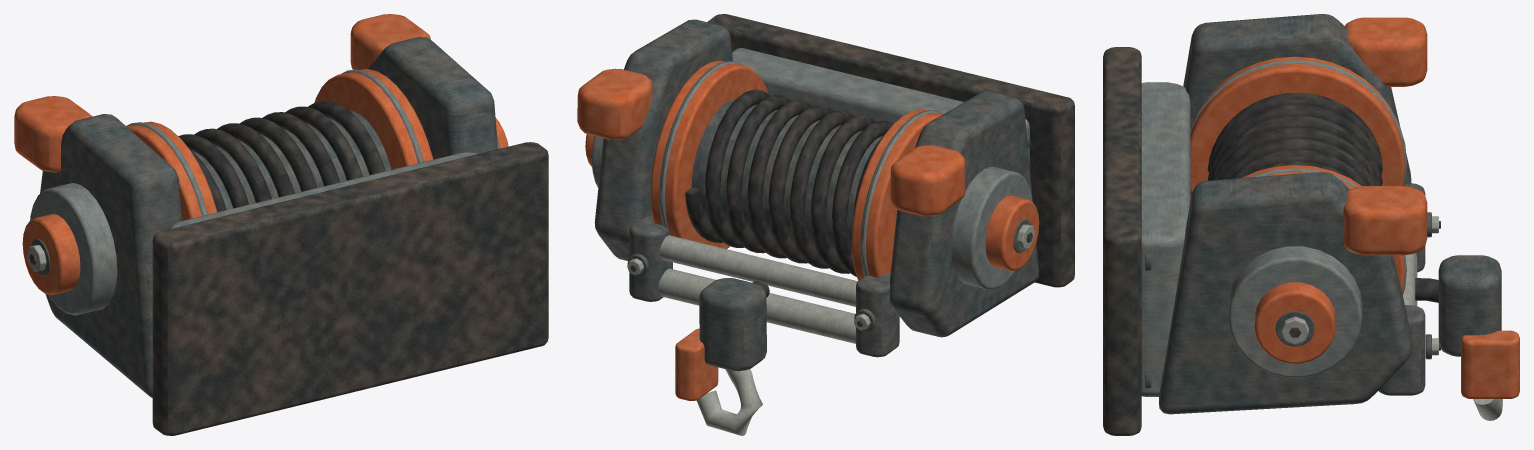
The model's file is gar_y_tow_hitch.glb.
The picture shows the model from 3 angles, left to right: view 1: azimuth 30°, elevation 25°; view 2: azimuth 150°, elevation 25°; view 3: azimuth 270°, elevation 25°; orthographic projection. The views are drawn at different scales.
Visible parts, largest first — view 1: MountPlate_graphite, GAR_Y_TowHitch_dark_alloy, Reel_black_rubber, GAR_Y_TowHitch_orange, Reel_orange, GAR_Y_TowHitch_alloy, Reel_dark_alloy, MountPlate_alloy, Reel_alloy; view 2: GAR_Y_TowHitch_dark_alloy, Reel_black_rubber, MountPlate_graphite, Reel_orange, GAR_Y_TowHitch_orange, GAR_Y_TowHitch_satin_steel, MountPlate_alloy, Reel_dark_alloy, Clip_dark_alloy, GAR_Y_TowHitch_alloy, Reel_alloy, Clip_satin_steel (+1 smaller); view 3: GAR_Y_TowHitch_dark_alloy, MountPlate_graphite, GAR_Y_TowHitch_orange, MountPlate_alloy, Reel_black_rubber, Reel_orange, GAR_Y_TowHitch_alloy, Clip_dark_alloy, Clip_orange, Reel_alloy, GAR_Y_TowHitch_satin_steel, Clip_black_rubber (+1 smaller).
Part boxes in pixels (x1,y1,x2,y2): MountPlate_graphite: (152,142,548,435); GAR_Y_TowHitch_dark_alloy: (31,37,497,397); Reel_black_rubber: (178,101,385,212); GAR_Y_TowHitch_orange: (14,14,508,294); Reel_orange: (126,69,433,220); GAR_Y_TowHitch_alloy: (30,137,500,315); Reel_dark_alloy: (192,110,391,209); MountPlate_alloy: (169,152,478,229); Reel_alloy: (126,69,423,215); GAR_Y_TowHitch_dark_alloy: (594,19,1039,357); Reel_black_rubber: (685,89,893,276); MountPlate_graphite: (707,14,1074,287); Reel_orange: (650,60,942,280); GAR_Y_TowHitch_orange: (577,68,1039,270); GAR_Y_TowHitch_satin_steel: (627,224,1034,343); MountPlate_alloy: (732,48,1029,164); Reel_dark_alloy: (691,99,883,254); Clip_dark_alloy: (699,278,766,371); GAR_Y_TowHitch_alloy: (591,136,1032,289); Reel_alloy: (659,61,943,276); Clip_satin_steel: (696,369,762,435); GAR_Y_TowHitch_dark_alloy: (1159,14,1431,414); MountPlate_graphite: (1103,47,1141,435); GAR_Y_TowHitch_orange: (1254,17,1427,363); MountPlate_alloy: (1141,82,1190,396); Reel_black_rubber: (1207,92,1382,185); Reel_orange: (1190,56,1404,294); GAR_Y_TowHitch_alloy: (1228,246,1362,377); Clip_dark_alloy: (1438,255,1501,356); Clip_orange: (1461,330,1519,398); Reel_alloy: (1190,60,1406,295); GAR_Y_TowHitch_satin_steel: (1281,216,1438,355); Clip_black_rubber: (1415,278,1438,302).
Bounding box in the file's own units: 0.2733 × 0.1707 × 0.205.
Materials: 6 (6 with a texture image).
